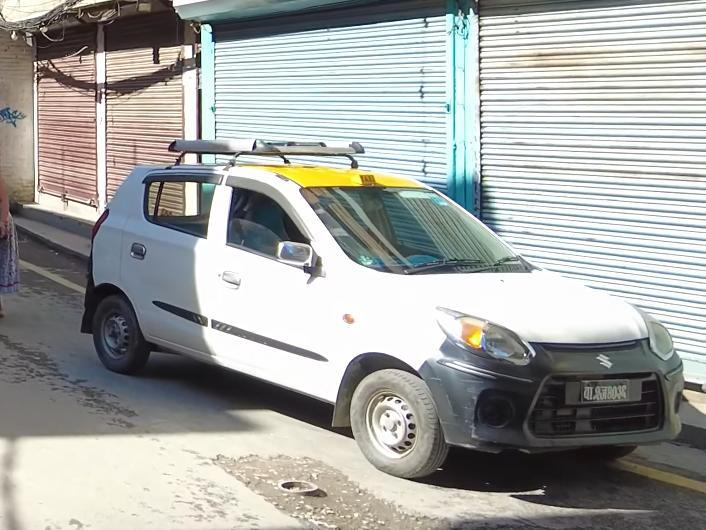taxi: (84, 122, 694, 492)
